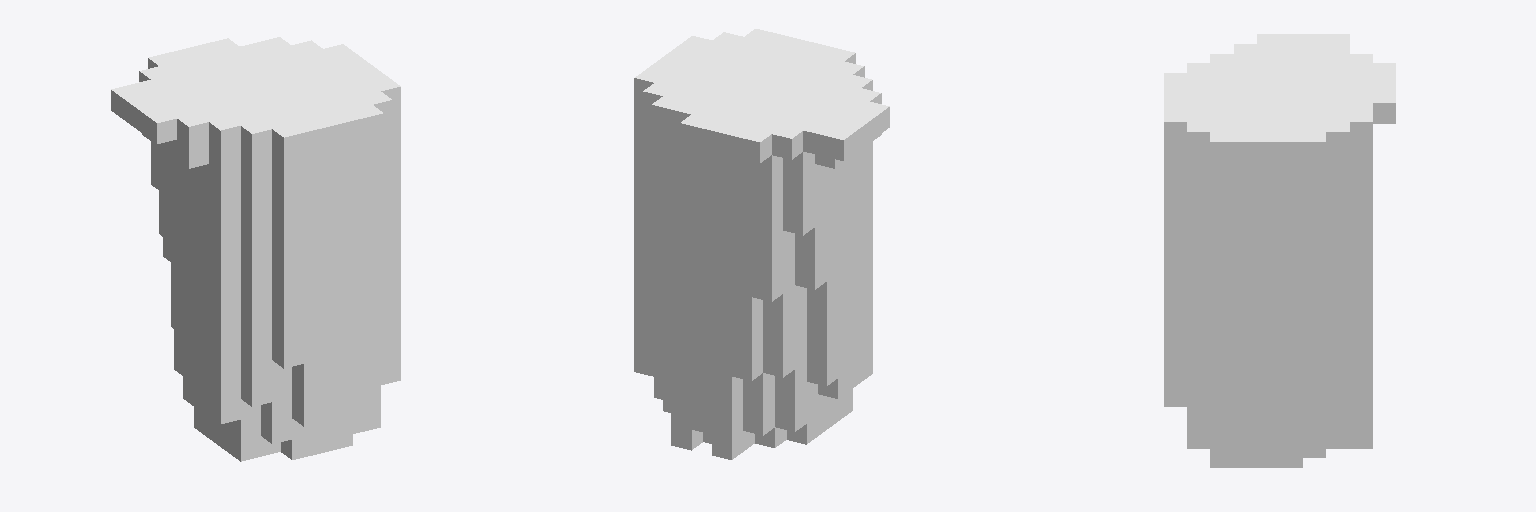
The model's file is Hero-2.obj.
The picture shows the model from 3 angles: view 1: azimuth 30°, elevation 25°; view 2: azimuth 150°, elevation 25°; view 3: azimuth 270°, elevation 25°; orthographic projection.
Visible parts, largest first — view 1: object 1; view 2: object 1; view 3: object 1.
Boxes of the visible parts, x1=… form: object 1: x1=111, y1=37, x2=400, y2=461; object 1: x1=634, y1=29, x2=889, y2=459; object 1: x1=1164, y1=34, x2=1395, y2=467.
Size of the model in its own units: 1.1 by 1.6 by 1.